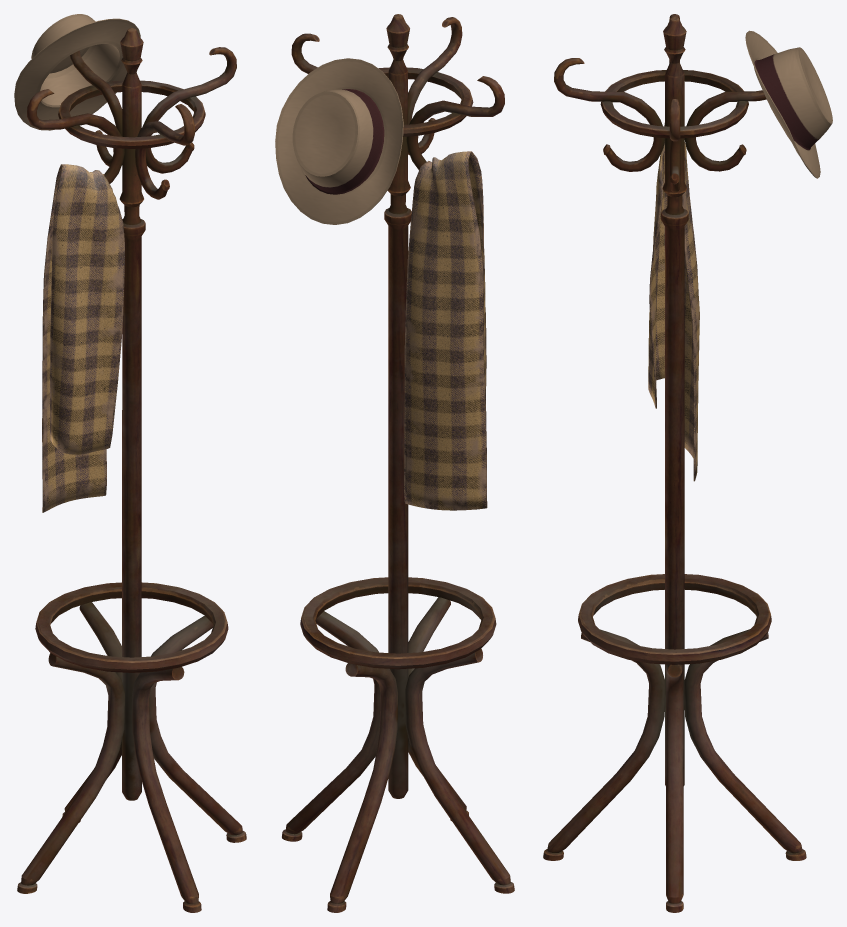
Rendered from coat_rack_scarf.glb.
3 renders of one model, left to right at view 1: azimuth 30°, elevation 25°; view 2: azimuth 150°, elevation 25°; view 3: azimuth 270°, elevation 25°, orthographic.
Visible parts, largest first — view 1: Hanger, Scarf, Hat; view 2: Hanger, Scarf, Hat; view 3: Hanger, Scarf, Hat.
Part boxes in pixels (x1,y1,x2,y2): Hanger: [17, 28, 246, 912]; Scarf: [42, 164, 124, 512]; Hat: [14, 14, 140, 130]; Hanger: [282, 14, 514, 912]; Scarf: [404, 151, 487, 510]; Hat: [275, 58, 403, 224]; Hanger: [543, 14, 806, 912]; Scarf: [648, 123, 699, 481]; Hat: [745, 30, 832, 178].
Size of the model in its own units: 0.5259 by 1.85 by 0.5784.
Materials: 1 (1 with a texture image).
